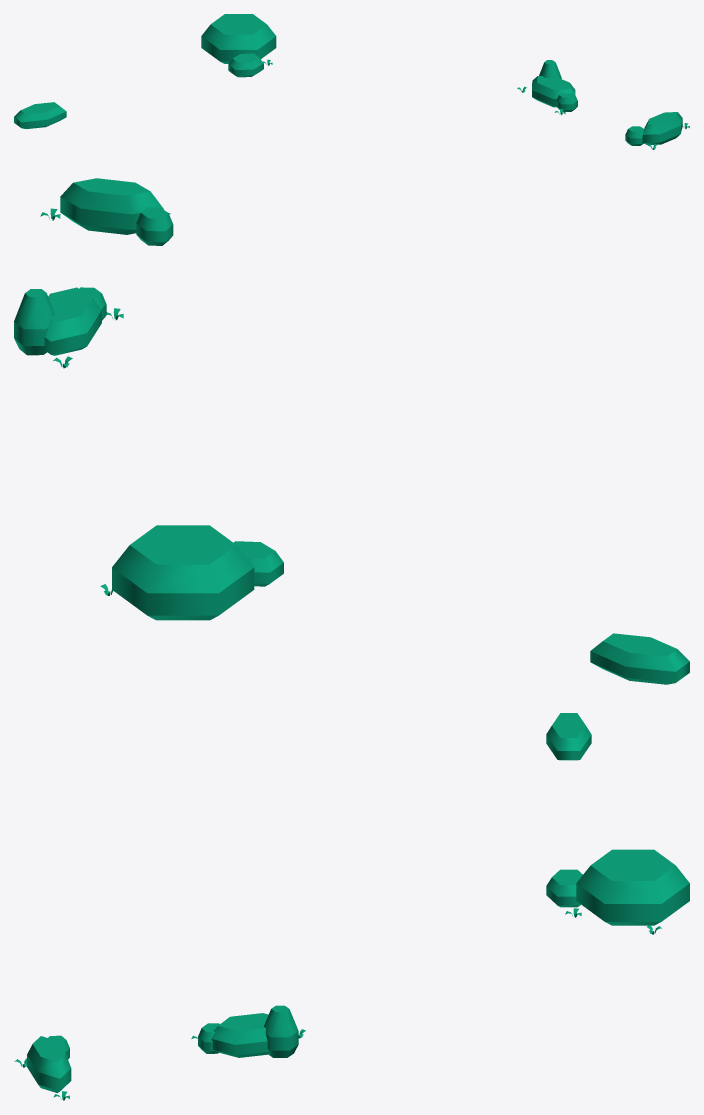
File: Bushes.fbx
3 views of the same model, one above another, from view 1: azimuth 30°, elevation 25°; view 2: azimuth 150°, elevation 25°; view 3: azimuth 270°, elevation 25° (orthographic). The views are drawn at different scales.
Parts seen in each view (by area): view 1: mergedBlocks; view 2: mergedBlocks; view 3: mergedBlocks.
Part boxes in pixels (left/top/right/bottom): mergedBlocks: left=14, top=14, right=689, bottom=149; mergedBlocks: left=14, top=178, right=689, bottom=684; mergedBlocks: left=14, top=713, right=689, bottom=1100.
Bounding box in the file's own units: 89.45 × 5 × 68.71.
